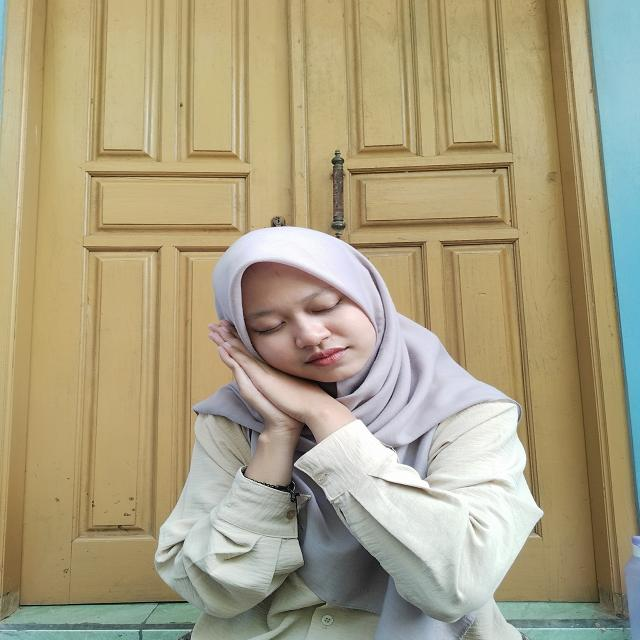tidur: (188, 310, 369, 498)
